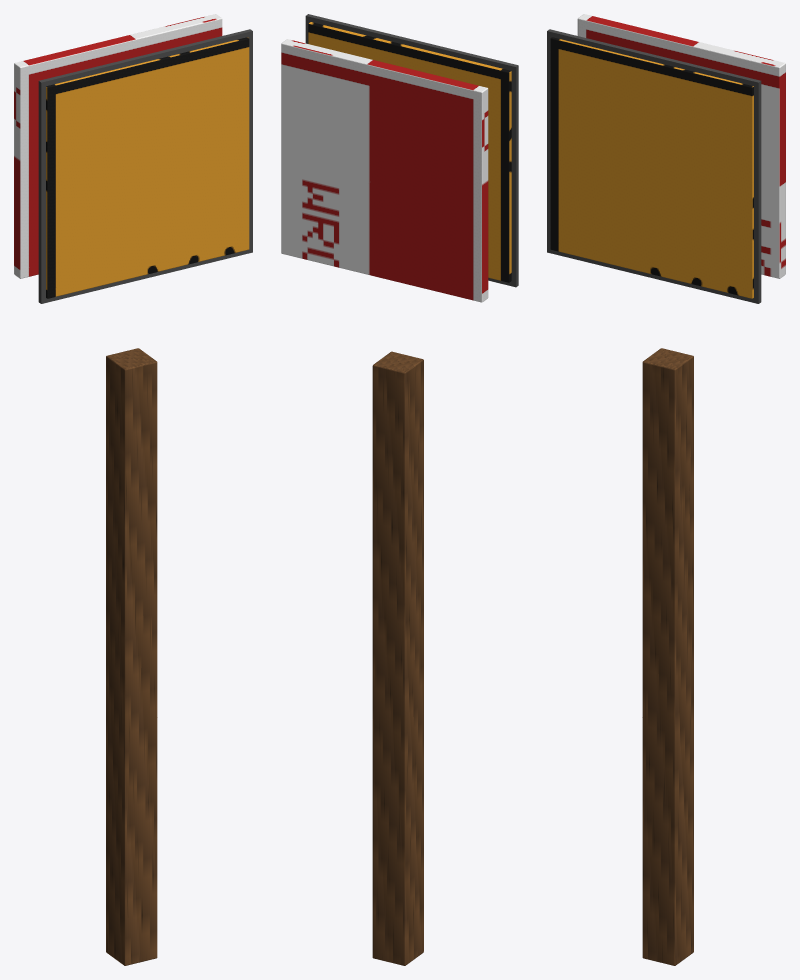
File: arrow_triple_right.dae
3 views of the same model, side by side, from view 1: azimuth 30°, elevation 25°; view 2: azimuth 150°, elevation 25°; view 3: azimuth 330°, elevation 25° (orthographic).
Visible parts, largest first — view 1: sign_front, sign_post, sign_back, sign_frame; view 2: sign_back, sign_post, sign_front, sign_frame; view 3: sign_front, sign_post, sign_back, sign_frame.
Boxes of the visible parts, <box> form: sign_front: <box>46,37,249,298</box>; sign_post: <box>106,348,157,965</box>; sign_back: <box>14,14,222,278</box>; sign_frame: <box>38,29,252,303</box>; sign_back: <box>281,39,488,302</box>; sign_post: <box>372,351,423,965</box>; sign_front: <box>308,22,511,282</box>; sign_frame: <box>305,14,518,287</box>; sign_front: <box>550,37,753,298</box>; sign_post: <box>642,348,693,965</box>; sign_back: <box>577,14,785,278</box>; sign_frame: <box>547,29,761,303</box>.
Size of the model in its own units: 0.575 by 0.158 by 2.36.
5 materials, 4 textured.
